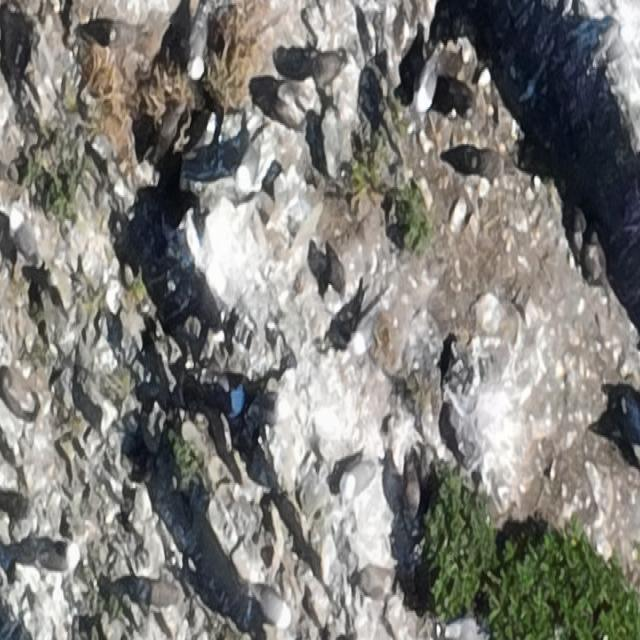umineko: (186, 7, 209, 79), (339, 459, 378, 500), (412, 56, 438, 116), (350, 304, 382, 352), (10, 211, 39, 262), (235, 135, 260, 192), (255, 590, 290, 628), (41, 543, 81, 573), (208, 389, 245, 416)
